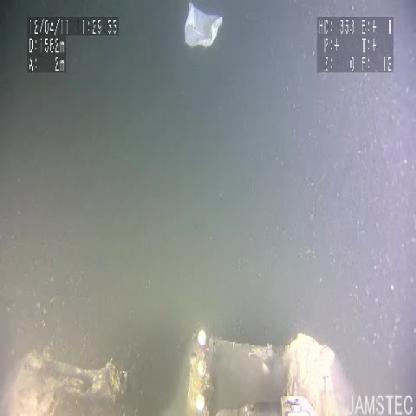Rác: (181, 0, 225, 51)
